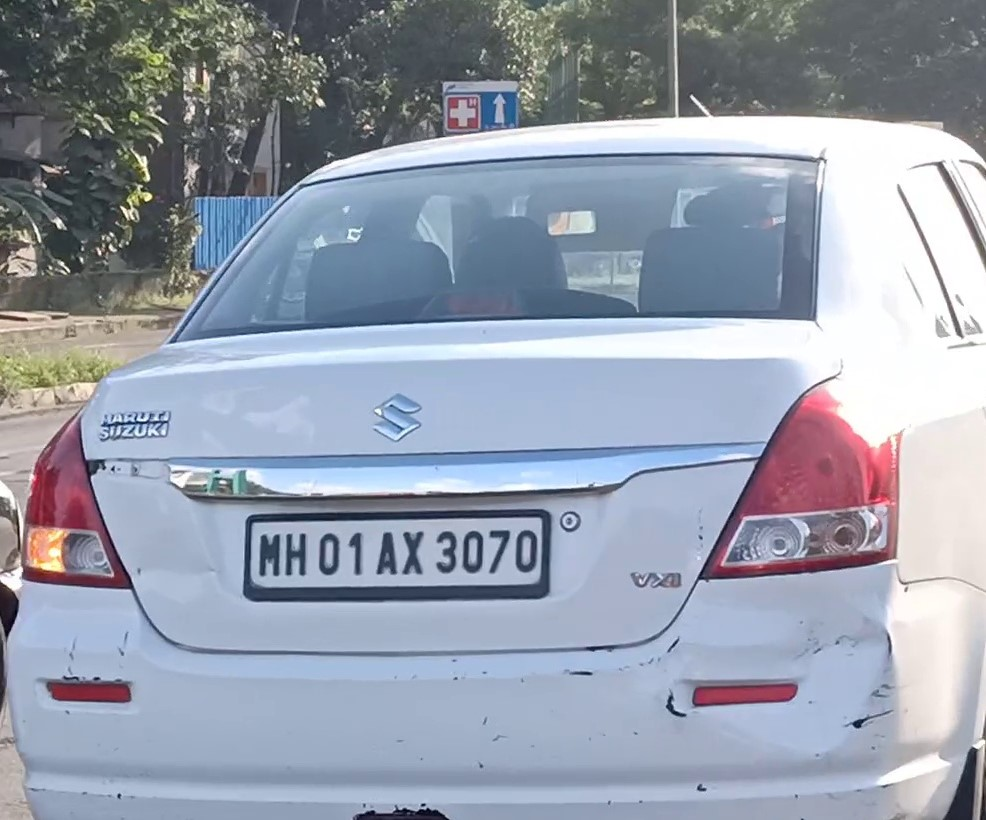MH01AX3070: (252, 519, 539, 585)
